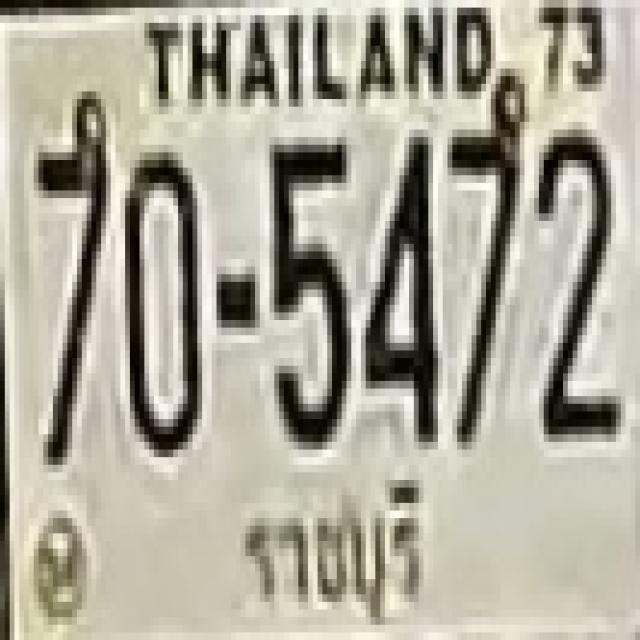0: (120, 144, 198, 450)
2: (534, 126, 611, 423)
4: (361, 133, 433, 438)
5: (270, 137, 346, 442)
7: (34, 107, 106, 457), (448, 99, 520, 442)
RBR: (236, 459, 441, 639)
